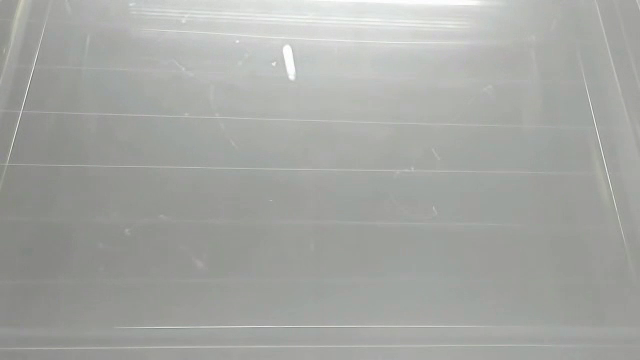alpha: (280, 43, 301, 83)
